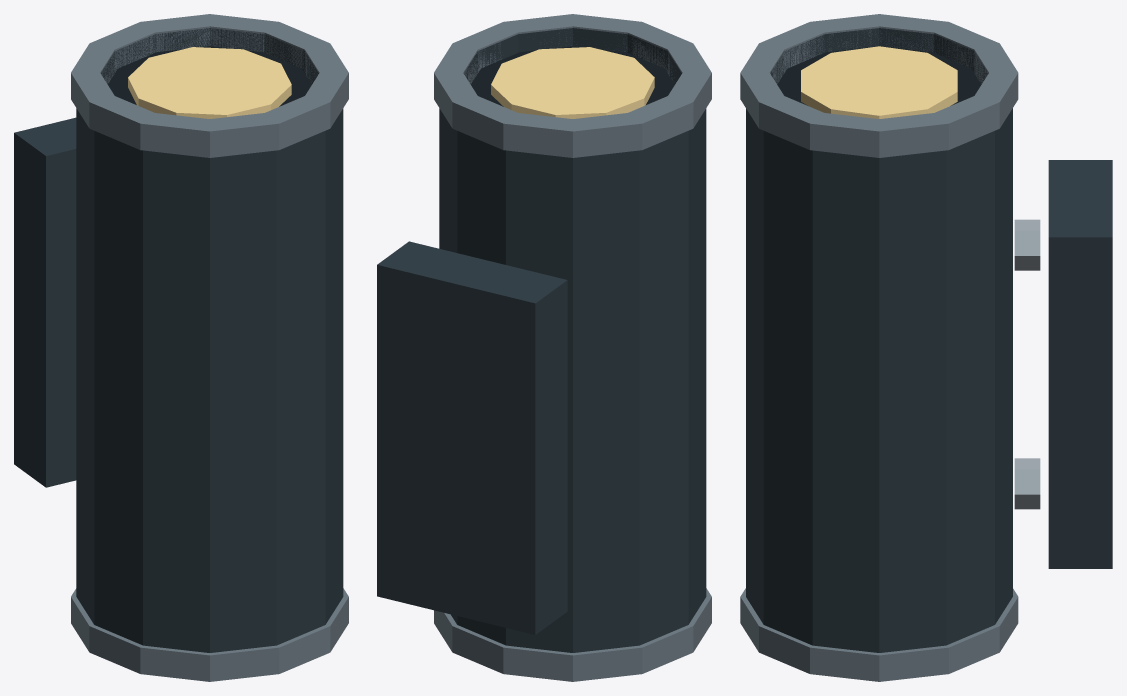
File: b18_cylindrical_up_down_sconce.glb
3 renders of one model, left to right at view 1: azimuth 30°, elevation 25°; view 2: azimuth 150°, elevation 25°; view 3: azimuth 270°, elevation 25°, orthographic.
Parts seen in each view (by area): view 1: b18_cylindrical_up_down_sconce; view 2: b18_cylindrical_up_down_sconce; view 3: b18_cylindrical_up_down_sconce.
Part boxes in pixels (x1=…): b18_cylindrical_up_down_sconce: x1=14, y1=14, x2=348, y2=681; b18_cylindrical_up_down_sconce: x1=377, y1=14, x2=711, y2=681; b18_cylindrical_up_down_sconce: x1=740, y1=14, x2=1112, y2=681.
Bounding box in the file's own units: 0.152 × 0.332 × 0.2035.
